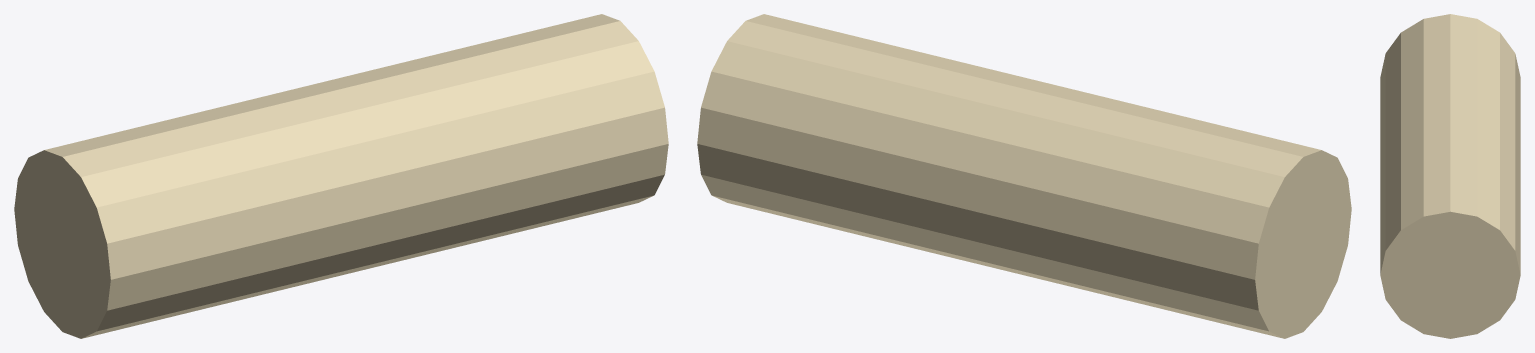
Rendered from scroll.glb.
3 views of the same model, side by side, from view 1: azimuth 30°, elevation 25°; view 2: azimuth 150°, elevation 25°; view 3: azimuth 270°, elevation 25° (orthographic). The views are drawn at different scales.
Parts seen in each view (by area): view 1: Prop_Scroll; view 2: Prop_Scroll; view 3: Prop_Scroll.
Boxes of the visible parts, <box> form: Prop_Scroll: <box>14,14,668,338</box>; Prop_Scroll: <box>697,14,1351,338</box>; Prop_Scroll: <box>1380,14,1520,338</box>.
Bounding box in the file's own units: 0.3 × 0.09 × 0.09.
